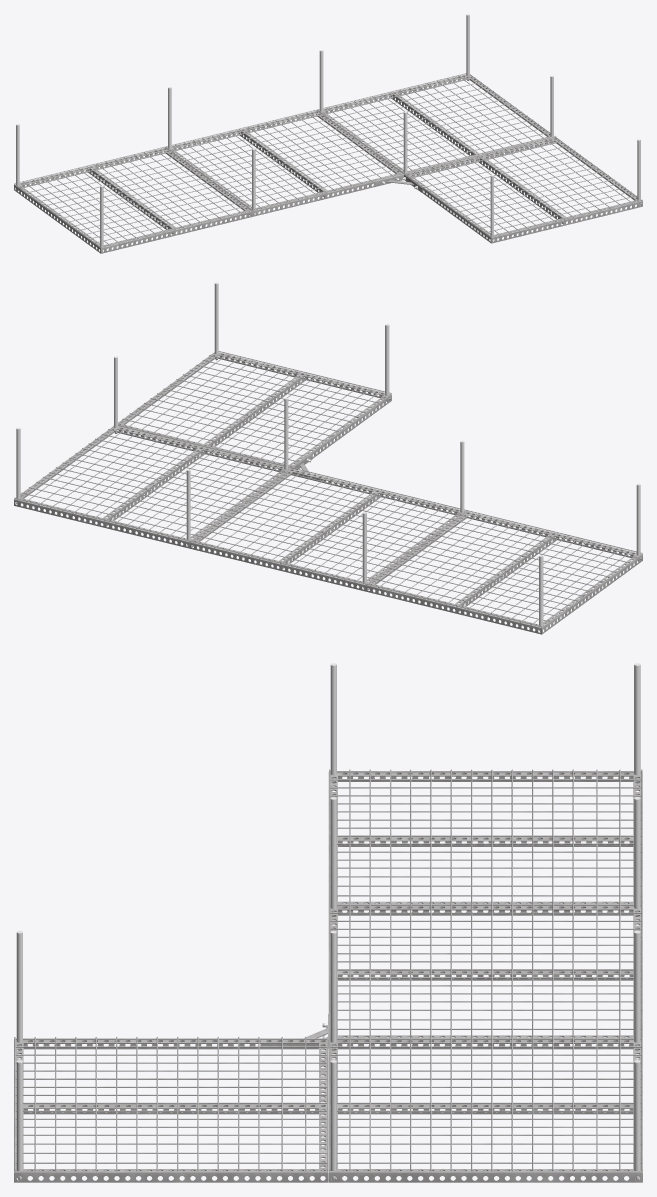
File: PQL12.glb
The picture shows the model from 3 angles, top to bottom: view 1: azimuth 30°, elevation 25°; view 2: azimuth 150°, elevation 25°; view 3: azimuth 270°, elevation 25°; orthographic projection. The views are drawn at different scales.
Visible parts, largest first — view 1: Grill004, Rods004; view 2: Grill004, Rods004; view 3: Grill004, Rods004.
Part boxes in pixels (bbox=[...]): Grill004: bbox=[14, 73, 642, 253]; Rods004: bbox=[16, 14, 640, 251]; Grill004: bbox=[14, 351, 642, 634]; Rods004: bbox=[16, 282, 640, 632]; Grill004: bbox=[14, 769, 642, 1182]; Rods004: bbox=[16, 663, 640, 1180].
Bounding box in the file's own units: 93.35 × 12.97 × 61.88.
2 materials, 2 textured.
